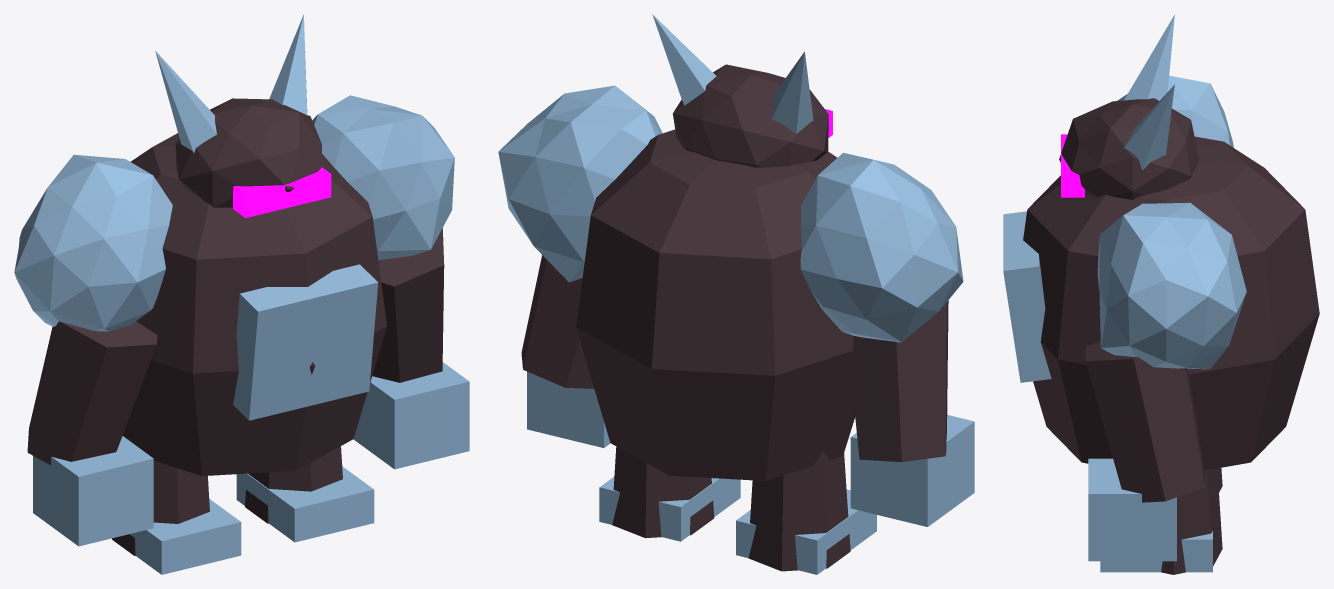
Rendered from elite2.fbx.
3 renders of one model, left to right at view 1: azimuth 30°, elevation 25°; view 2: azimuth 150°, elevation 25°; view 3: azimuth 270°, elevation 25°, orthographic. The views are drawn at different scales.
Parts seen in each view (by area): view 1: SM_elite2_MAT_Ice, SM_elite2_MAT_Rock, SM_elite2_MAT_GlowMagenta; view 2: SM_elite2_MAT_Rock, SM_elite2_MAT_Ice; view 3: SM_elite2_MAT_Rock, SM_elite2_MAT_Ice, SM_elite2_MAT_GlowMagenta.
Boxes of the visible parts, x1,y1,x2,y2 form: SM_elite2_MAT_Ice: (14, 14, 469, 574); SM_elite2_MAT_Rock: (27, 98, 444, 555); SM_elite2_MAT_GlowMagenta: (233, 167, 331, 217); SM_elite2_MAT_Rock: (521, 64, 948, 571); SM_elite2_MAT_Ice: (498, 14, 974, 574); SM_elite2_MAT_Rock: (1023, 98, 1319, 574); SM_elite2_MAT_Ice: (1003, 14, 1246, 572); SM_elite2_MAT_GlowMagenta: (1061, 134, 1084, 197).
Size of the model in its own units: 2.84 by 3.05 by 1.85.
